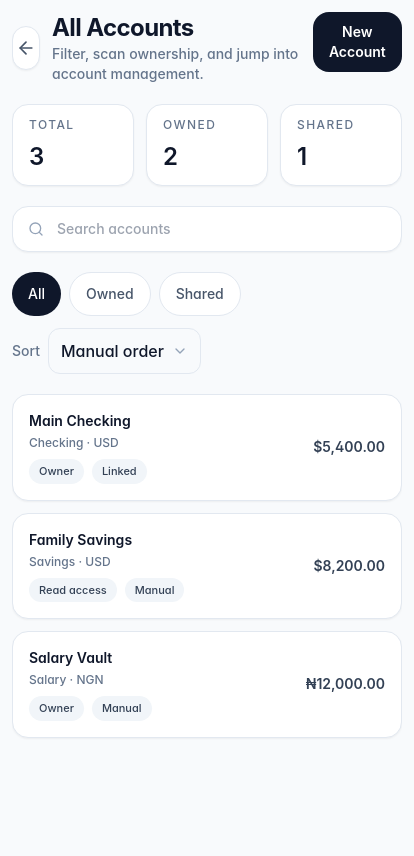
Test case: FinanceAccountsRoute › filters to shared accounts only
This screenshot has width=414, height=856.
Click the button "Shared" at (200, 294), box [159,272,241,316]
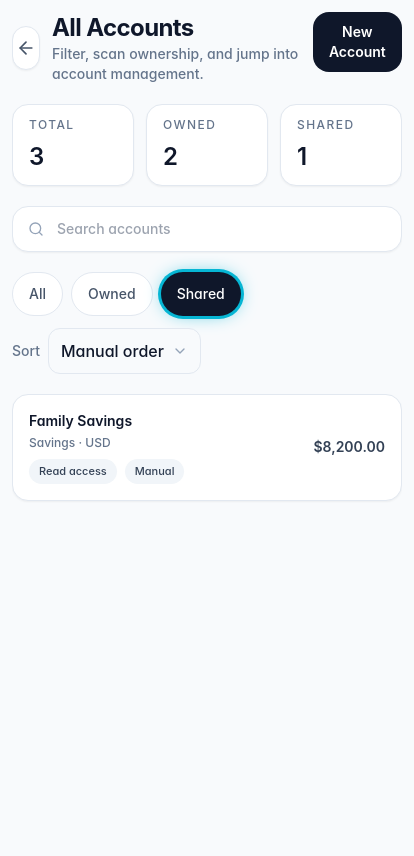
Check: the text "Family Savings" is shown, box [29,412,132,429]
Check: the button "Main Checking" is gone
Check: the button "Salary Vault" is gone
